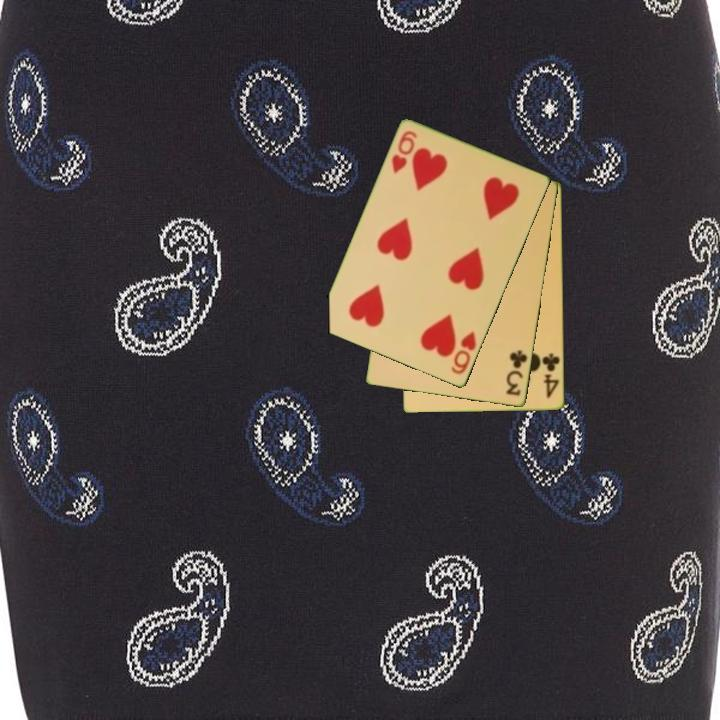3c: (502, 347, 530, 399)
4c: (539, 350, 563, 401)
6h: (388, 127, 420, 177), (448, 328, 479, 378)
